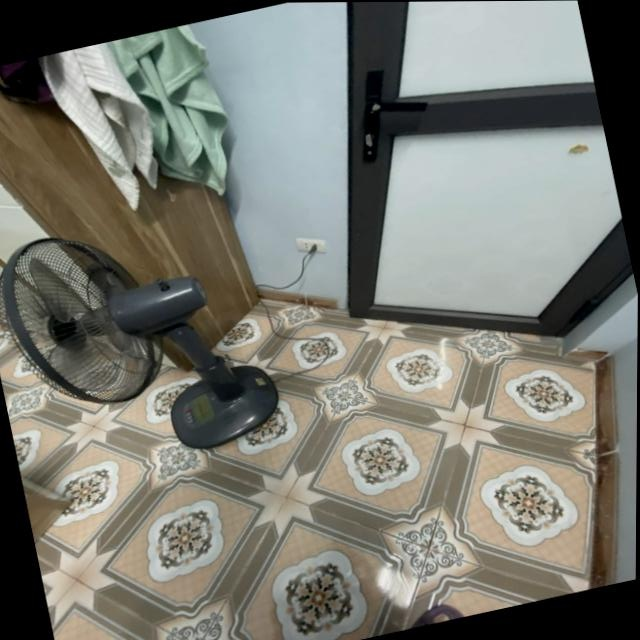outlet: (296, 231, 330, 260)
